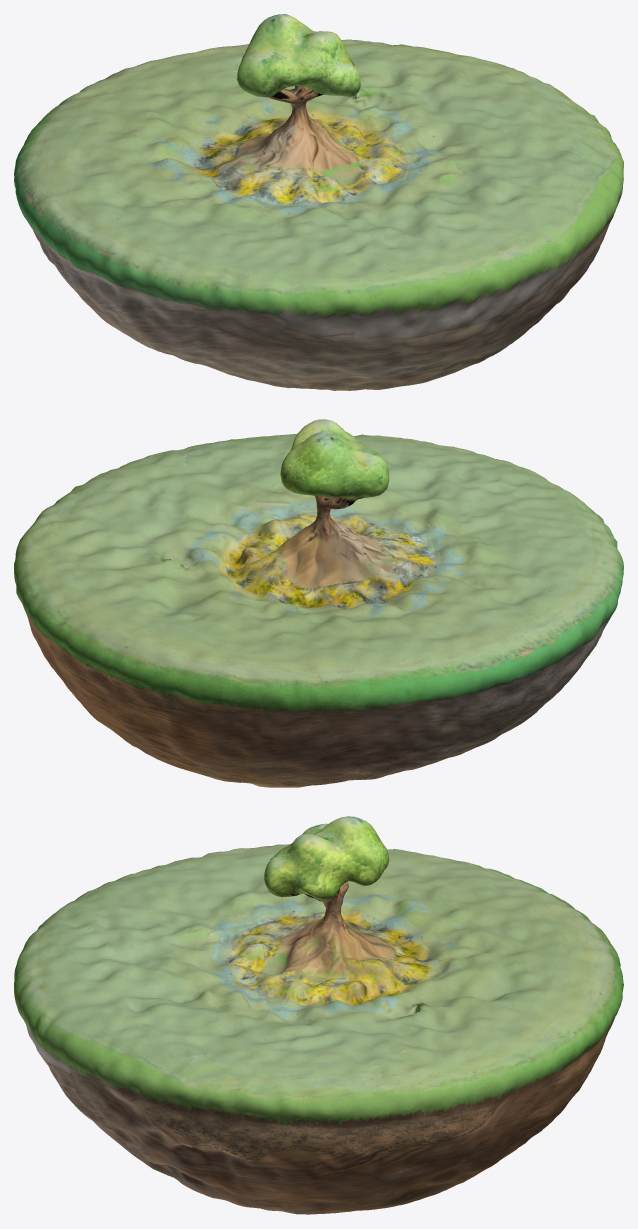
The model's file is create_a_small_round__0712123503_refine.fbx.
The picture shows the model from 3 angles, top to bottom: view 1: azimuth 30°, elevation 25°; view 2: azimuth 150°, elevation 25°; view 3: azimuth 270°, elevation 25°; orthographic projection.
Parts seen in each view (by area): view 1: Mesh_0; view 2: Mesh_0; view 3: Mesh_0.
Boxes of the visible parts, x1=… form: Mesh_0: x1=14, y1=14, x2=623, y2=390; Mesh_0: x1=14, y1=419, x2=623, y2=787; Mesh_0: x1=14, y1=816, x2=623, y2=1214.
Bounding box in the file's own units: 120 × 75.19 × 120.
1 material, 1 textured.
